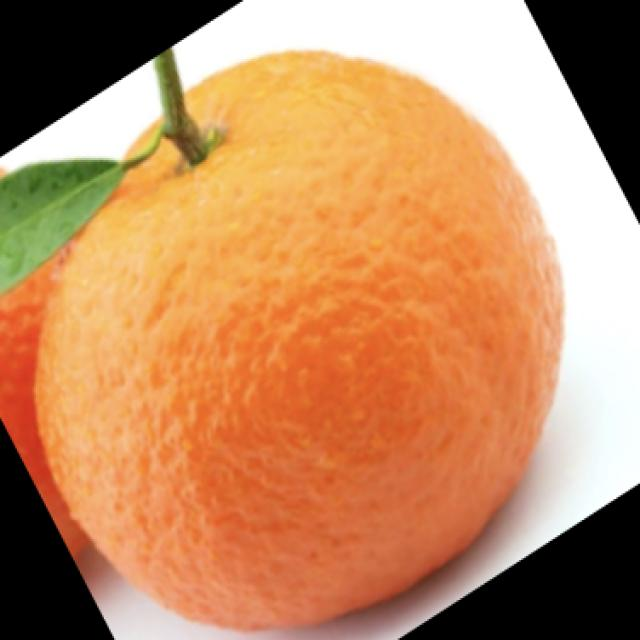matang: (35, 54, 561, 634), (0, 166, 103, 566)
